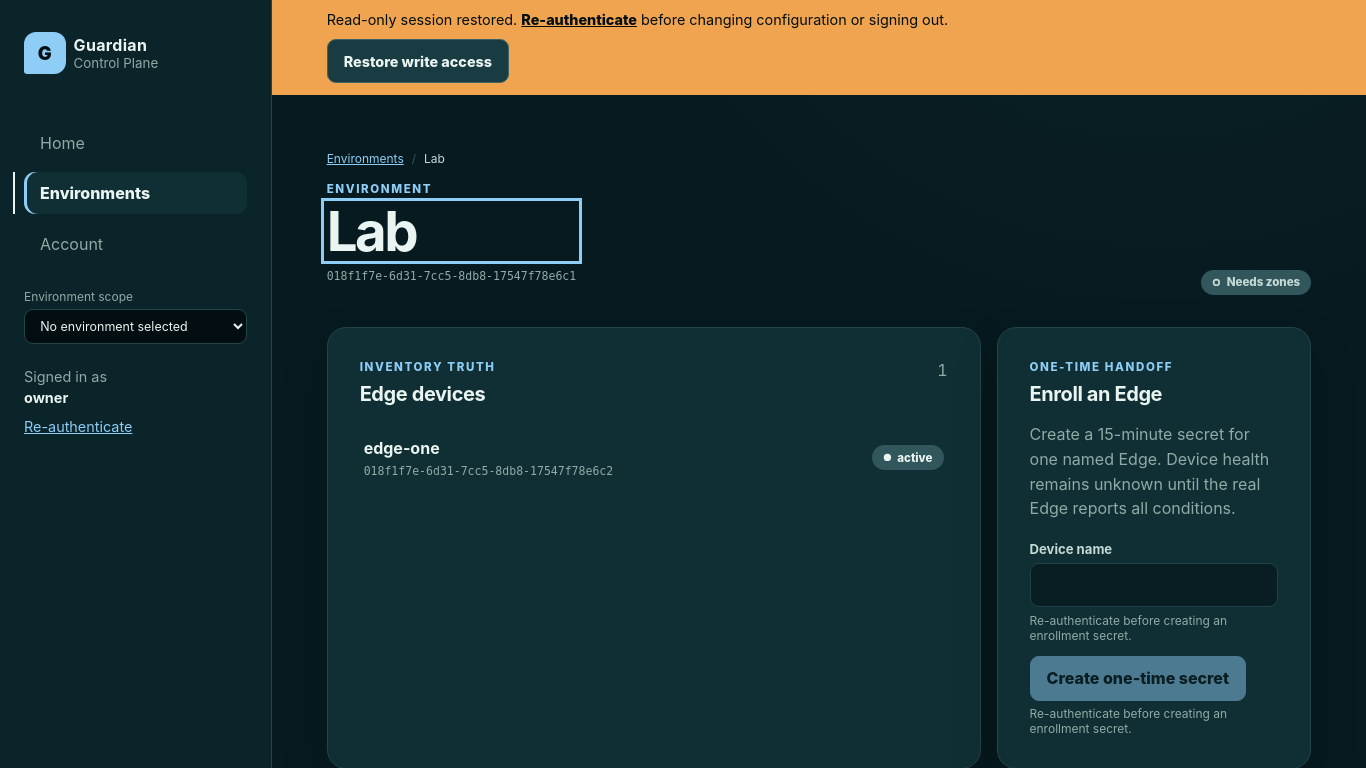
Test: the read-only banner › keeps the proof out of every storage area
The width and height of the screenshot is (1366, 768).
Check: the text "Read-only session restored." is shown, box left=327, top=11, right=521, bottom=28
Click the button "Restore write access".
click(418, 61)  # box left=327, top=39, right=509, bottom=83
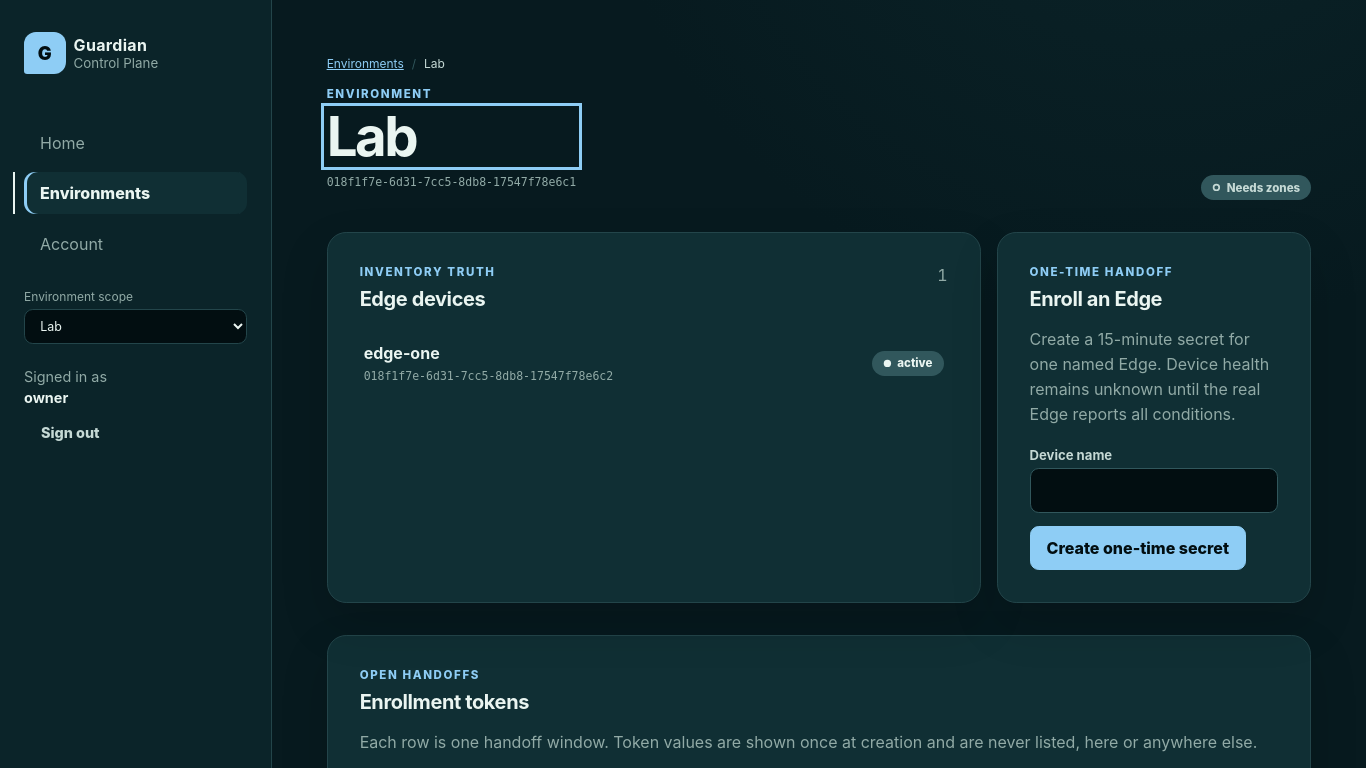
Check: the text "Read-only session restored." is gone
